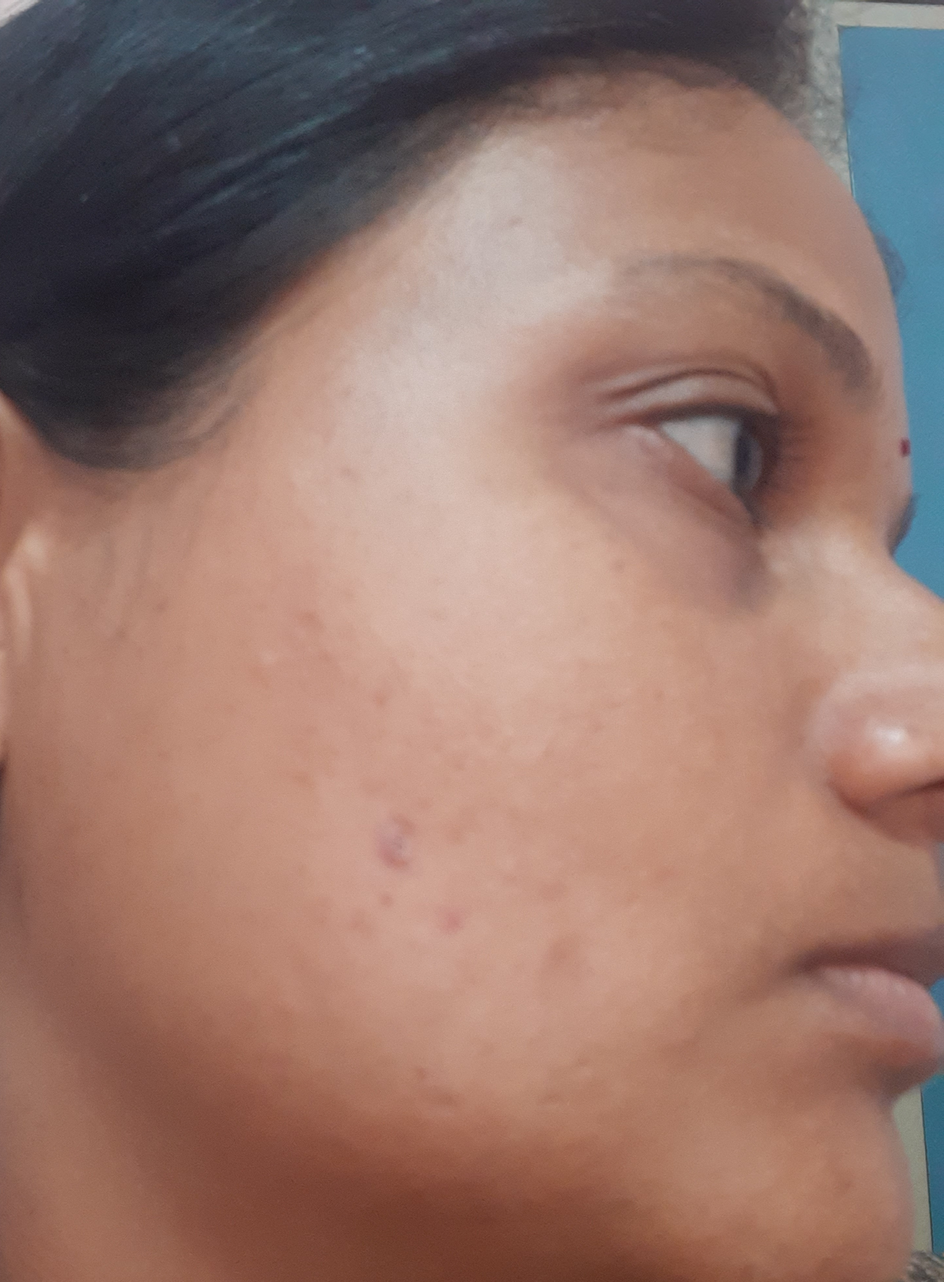papule: (530, 931, 602, 1013), (365, 806, 444, 878)
